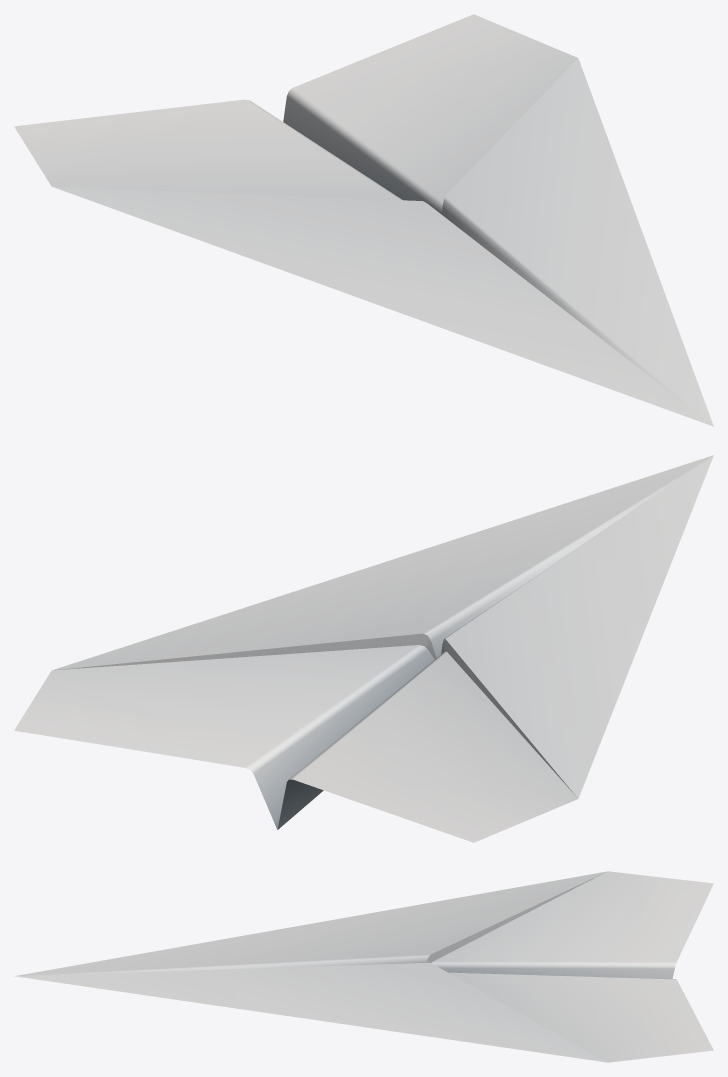
File: Paper Plane.glb
3 renders of one model, top to bottom at view 1: azimuth 30°, elevation 25°; view 2: azimuth 150°, elevation 25°; view 3: azimuth 270°, elevation 25°, orthographic. The views are drawn at different scales.
Parts seen in each view (by area): view 1: PaperPlane_GEO; view 2: PaperPlane_GEO; view 3: PaperPlane_GEO.
Part boxes in pixels (x1,y1,x2,y2): PaperPlane_GEO: (14,14,713,426); PaperPlane_GEO: (14,455,713,842); PaperPlane_GEO: (14,871,713,1062).
Size of the model in its own units: 6.87 by 0.9888 by 10.62.
1 material, 1 textured.
